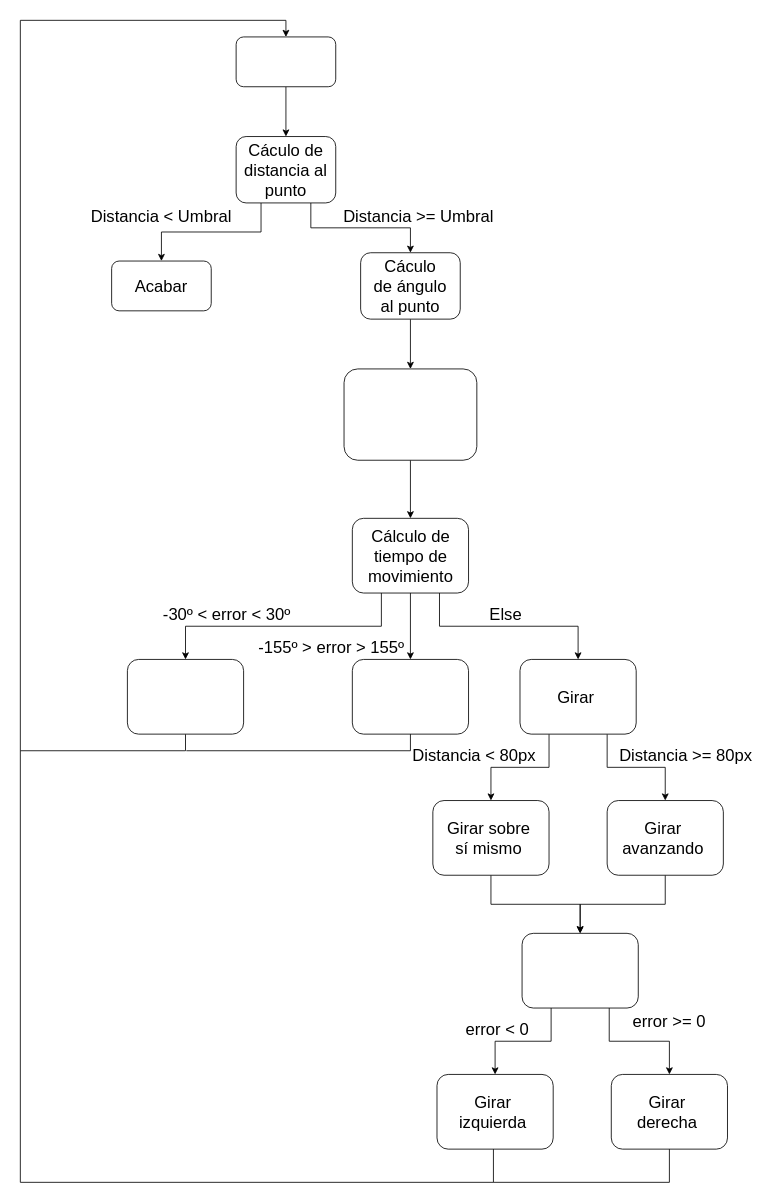
Some shapes in this 779 by 1198 pixel diagram are drawn without their labels. The box of each missing label's shape, as (x1, y1, x2, y2) in pixels:
Avanzar recto: (127, 659, 244, 734)
Cáculo de error entre orientación del robot y ángulo al punto: (343, 368, 477, 460)
Cálculo tiempo de giro: (521, 933, 638, 1008)
Obtener Imagen: (235, 36, 336, 87)
Retroceder: (352, 659, 469, 734)
